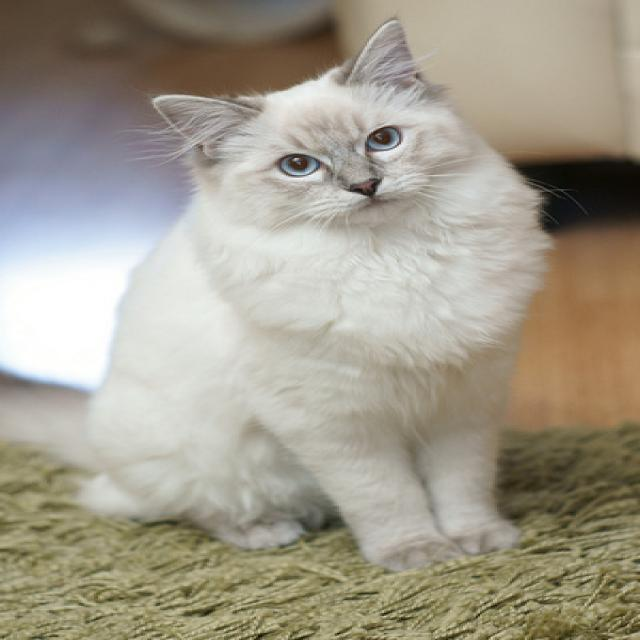Ragdoll: (71, 15, 560, 575)
